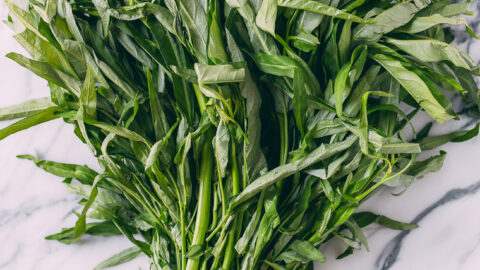Kangkung: (60, 22, 353, 195)
